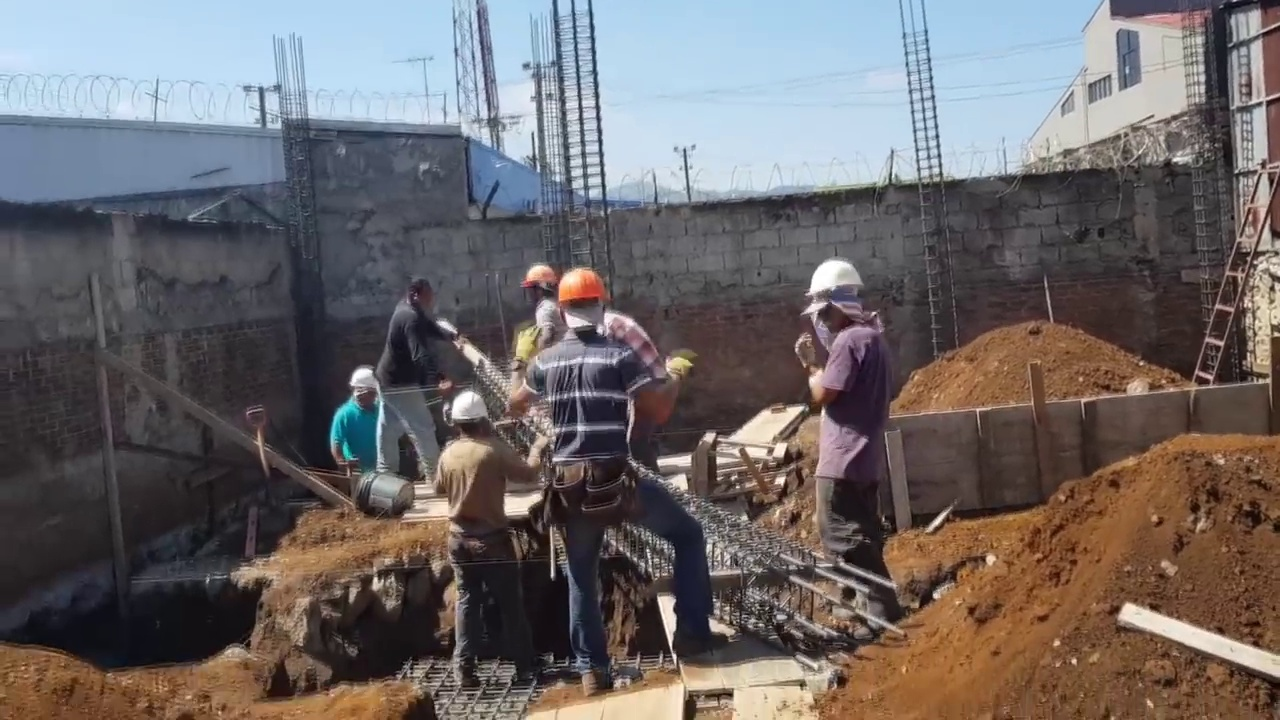helmet: (797, 258, 868, 304), (555, 267, 608, 308), (450, 393, 490, 422), (522, 265, 552, 292), (347, 372, 374, 396)
helmet-off: (400, 281, 430, 316)
helmet-on: (800, 258, 866, 338), (555, 268, 607, 330), (447, 395, 490, 448), (519, 260, 555, 308), (346, 366, 380, 414)
person: (509, 270, 730, 700), (796, 252, 900, 639), (432, 393, 546, 672), (380, 281, 463, 481), (592, 302, 682, 469), (324, 362, 402, 477), (495, 261, 567, 351)
